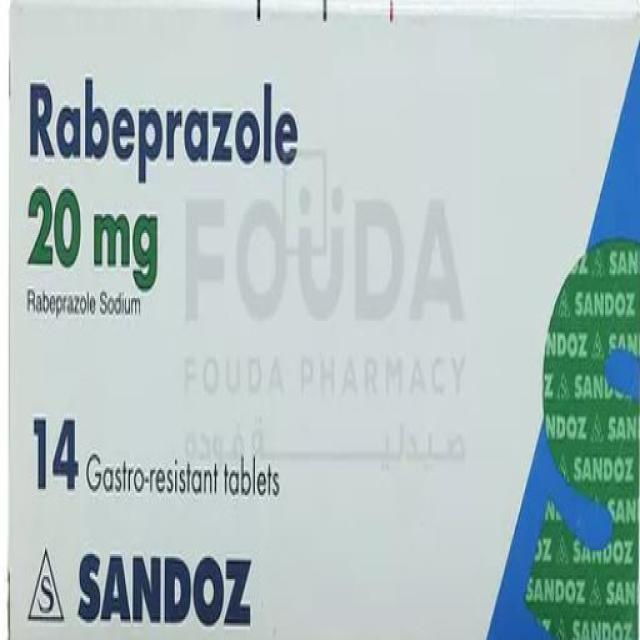drug-name: (27, 68, 308, 188)
